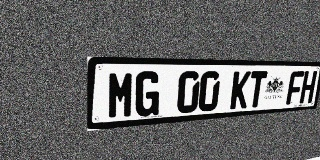0: (176, 71, 201, 114), (198, 71, 221, 112)
F: (286, 71, 304, 105)
G: (134, 71, 161, 117)
H: (299, 71, 317, 104)
K: (230, 71, 251, 109)
M: (107, 71, 135, 119)
T: (247, 71, 268, 108)
